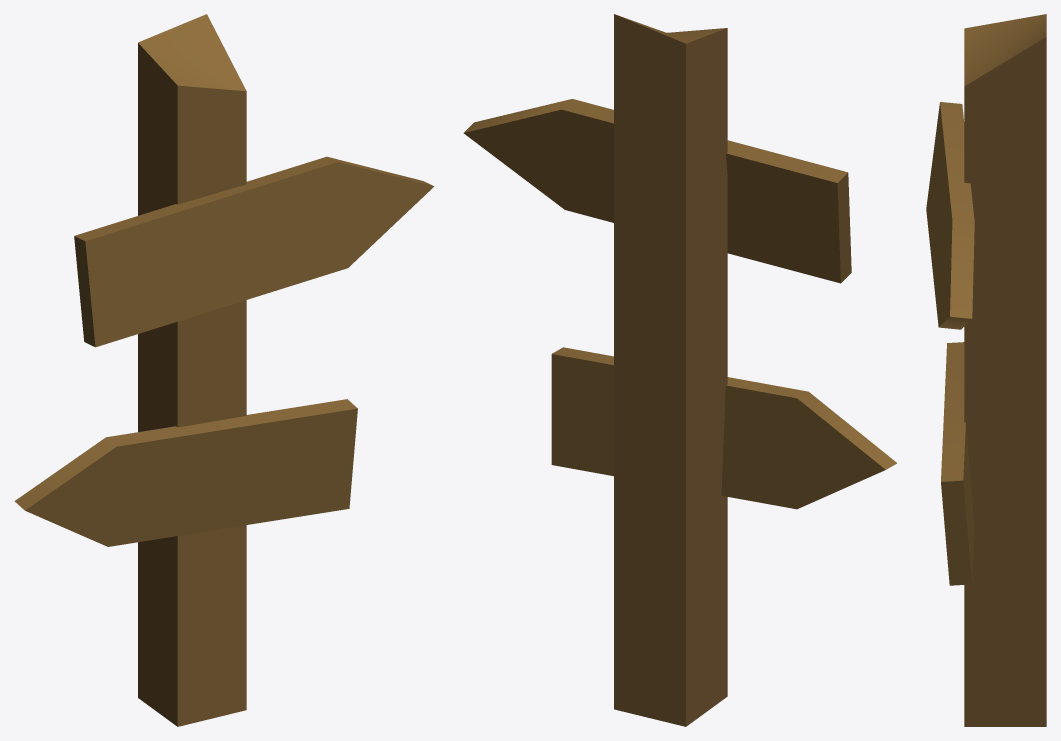
Rendered from SignPost_02.gltf.
The picture shows the model from 3 angles, left to right: view 1: azimuth 30°, elevation 25°; view 2: azimuth 150°, elevation 25°; view 3: azimuth 270°, elevation 25°; orthographic projection. The views are drawn at different scales.
Parts seen in each view (by area): view 1: SF_Prop_SignPost_02; view 2: SF_Prop_SignPost_02; view 3: SF_Prop_SignPost_02.
Boxes of the visible parts, <box> form: SF_Prop_SignPost_02: <box>14,14,433,726</box>; SF_Prop_SignPost_02: <box>463,14,896,726</box>; SF_Prop_SignPost_02: <box>926,14,1046,726</box>.
Size of the model in its own units: 0.0159 by 0.0249 by 0.00394.
Materials: 1 (1 with a texture image).
